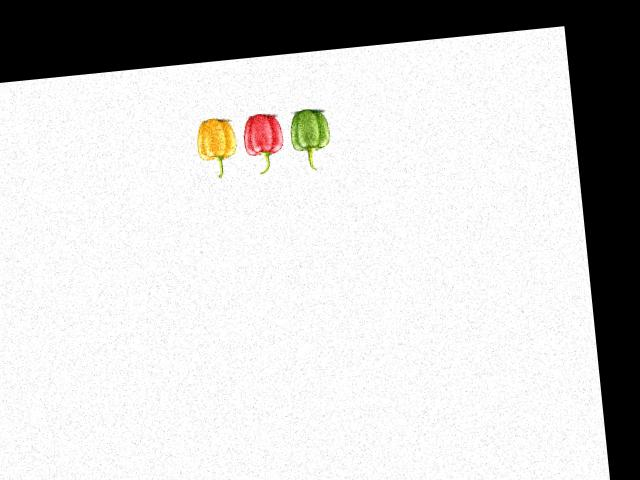bell_pepper: (288, 104, 337, 172)
